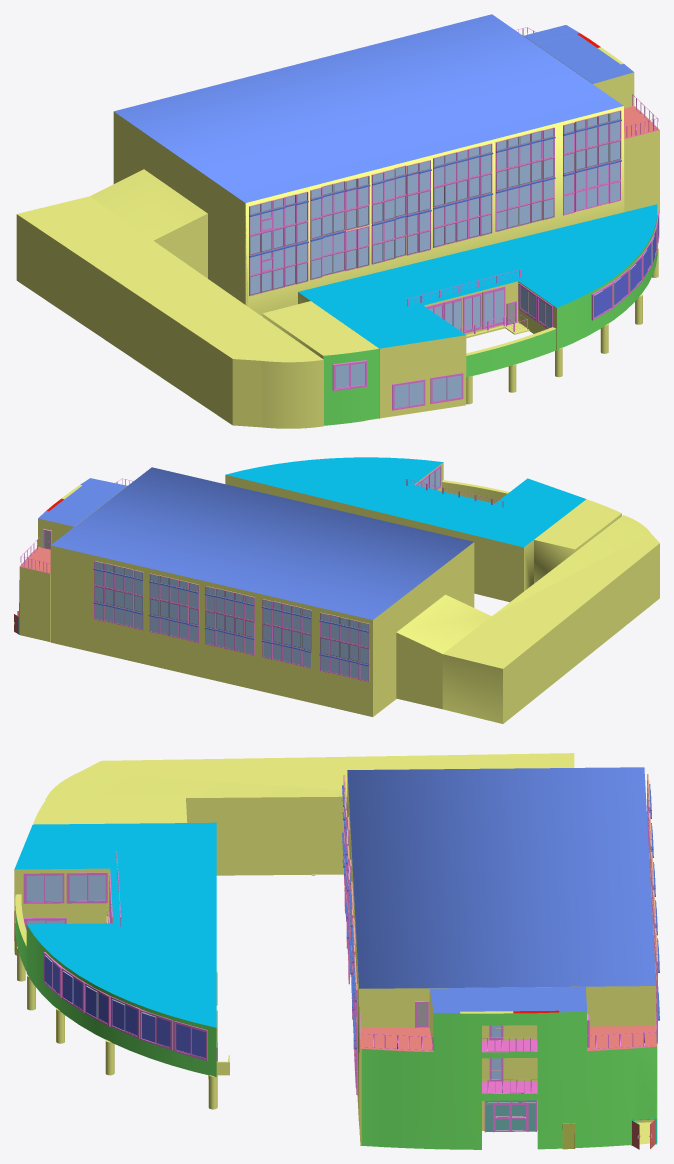
File: School.glb
3 renders of one model, top to bottom at view 1: azimuth 30°, elevation 25°; view 2: azimuth 150°, elevation 25°; view 3: azimuth 270°, elevation 25°, orthographic. The views are drawn at different scales.
Parts seen in each view (by area): view 1: Group_001, windowSlider48x48_014, windowSlider48x48_013, windowSlider48x48_012, windowSlider48x48_006, windowSlider48x48_009, windowSlider48x48#2_005; view 2: Group_001; view 3: Group_001, ske7AFF_001, windowSlider48x48_001, windowSlider48x48_002, windowSlider48x48#3_001, windowSlider48x48#2_002, windowSlider48x48#2_003, windowSlider48x48#2_001, windowSlider48x48#2_004, windowSlider48x48#2_005.
Part boxes in pixels (x1=…): Group_001: x1=16, y1=14, x2=659, y2=428; windowSlider48x48_014: x1=332, y1=360, x2=366, y2=390; windowSlider48x48_013: x1=392, y1=379, x2=425, y2=410; windowSlider48x48_012: x1=430, y1=373, x2=463, y2=403; windowSlider48x48_006: x1=482, y1=286, x2=505, y2=329; windowSlider48x48_009: x1=463, y1=292, x2=481, y2=333; windowSlider48x48#2_005: x1=591, y1=282, x2=613, y2=320; Group_001: x1=19, y1=457, x2=659, y2=723; Group_001: x1=14, y1=753, x2=657, y2=1149; ske7AFF_001: x1=484, y1=1100, x2=536, y2=1132; windowSlider48x48_001: x1=66, y1=872, x2=107, y2=903; windowSlider48x48_002: x1=23, y1=873, x2=64, y2=903; windowSlider48x48#3_001: x1=173, y1=1021, x2=207, y2=1060; windowSlider48x48#2_002: x1=139, y1=1009, x2=172, y2=1050; windowSlider48x48#2_003: x1=110, y1=996, x2=140, y2=1038; windowSlider48x48#2_001: x1=84, y1=982, x2=110, y2=1026; windowSlider48x48#2_004: x1=61, y1=968, x2=84, y2=1012; windowSlider48x48#2_005: x1=43, y1=952, x2=62, y2=997.
Bounding box in the file's own units: 112 × 22.4 × 95.81.
